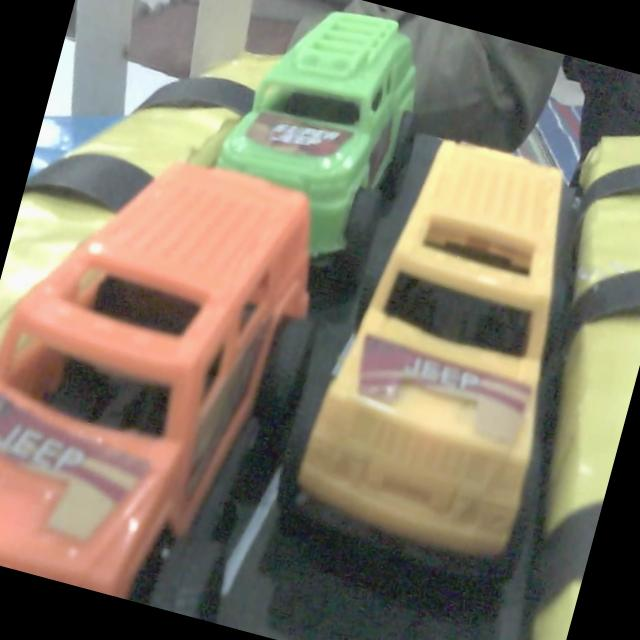ThreeCar: (260, 112, 634, 622), (0, 117, 355, 630), (192, 0, 439, 294)
